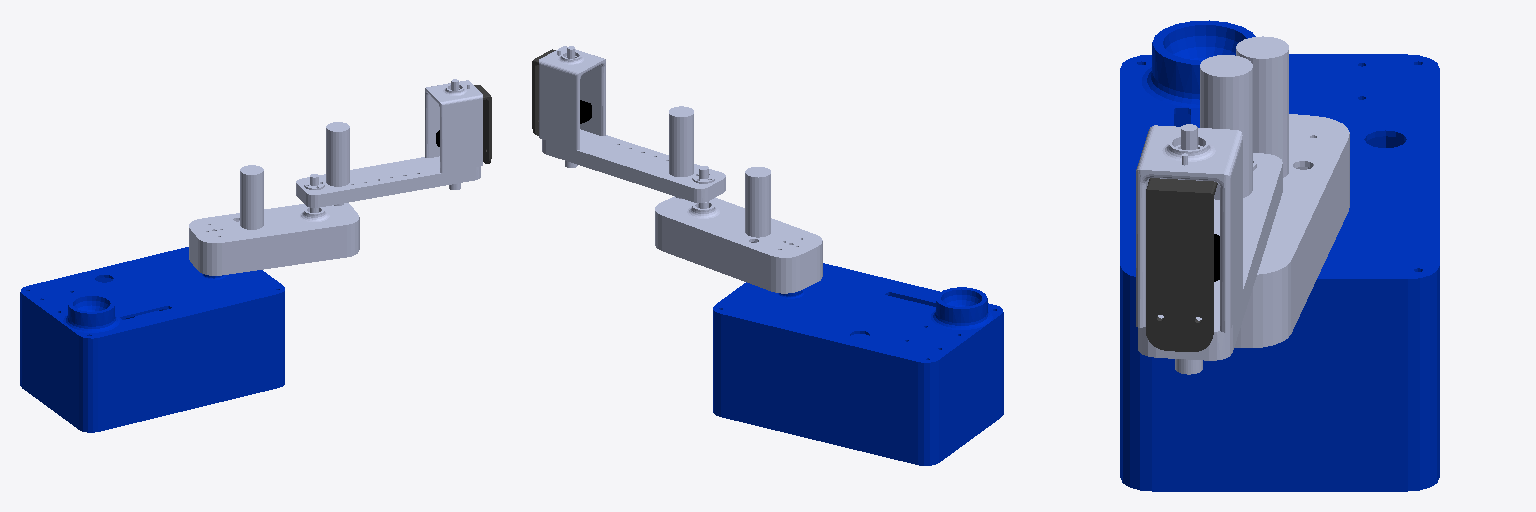
The robot description file, URDF, robot "Robot_Scara_F":
<?xml version="1.0" encoding="utf-8"?>
<robot name="Robot_Scara_F">

  <link name="world"/>
  <joint name="fixed_to_world" type="fixed">
    <parent link="world"/>
    <child link="base_link"/>
    <origin xyz="0 0 0.1" rpy="0 0 0"/>
  </joint> 

  <link name="base_link">
    <inertial>
      <origin xyz="-0.0074768 -0.0042443 -0.05846" rpy="0 0 0" />
      <mass value="0.75467" />
      <inertia ixx="0.0026112" ixy="-6.6098E-05" ixz="4.7424E-06" iyy="0.0056532" iyz="6.4561E-06" izz="0.0069253" />
    </inertial>
    <visual>
      <origin xyz="0 0 0" rpy="0 0 0" />
      <geometry>
        <mesh filename="package://modelo_robot/meshes/base_link.STL" />
      </geometry>
      <material name="">
        <color rgba="0.0078431 0.23922 0.82353 1" />
      </material>
    </visual>
    <collision>
      <origin xyz="0 0 0" rpy="0 0 0" />
      <geometry>
        <mesh filename="package://modelo_robot/meshes/base_link.STL" />
      </geometry>
    </collision>
  </link>

  <link name="Link_1">
    <inertial>
      <origin xyz="0.050301 2.5584E-05 -0.039711" rpy="0 0 0" />
      <mass value="0.16499" />
      <inertia ixx="9.2698E-05" ixy="1.5054E-07" ixz="1.3155E-06" iyy="0.00041626" iyz="5.1721E-08" izz="0.00045058" />
    </inertial>
    <visual>
      <origin xyz="0 0 0" rpy="0 0 0" />
      <geometry>
        <mesh filename="package://modelo_robot/meshes/Link_1.STL" />
      </geometry>
      <material name="">
        <color rgba="0.79216 0.81961 0.93333 1" />
      </material>
    </visual>
    <collision>
      <origin xyz="0 0 0" rpy="0 0 0" />
      <geometry>
        <mesh filename="package://modelo_robot/meshes/Link_1.STL" />
      </geometry>
    </collision>
  </link>

  <joint name="Join_1" type="revolute">
    <origin xyz="0.067133 -0.0031595 -0.0024841" rpy="-3.1416 0 -0.19479" />
    <parent link="base_link" />
    <child link="Link_1" />
    <axis xyz="0 0 -1" />
    <limit lower="-1.5708" upper="1.5708" effort="100" velocity="100" />
    <dynamics damping="0.1" friction="0.1" />
  </joint>

  <link name="Link_2">
    <inertial>
      <origin xyz="0.083343 -3.3384E-05 -0.035418" rpy="0 0 0" />
      <mass value="0.22047" />
      <inertia ixx="9.4697E-05" ixy="-7.0394E-08" ixz="-1.0939E-07" iyy="0.000397" iyz="-6.3842E-09" izz="0.00038542" />
    </inertial>
    <visual>
      <origin xyz="0 0 0" rpy="0 0 0" />
      <geometry>
        <mesh filename="package://modelo_robot/meshes/Link_2.STL" />
      </geometry>
      <material name="">
        <color rgba="0.79216 0.81961 0.93333 1" />
      </material>
    </visual>
    <collision>
      <origin xyz="0 0 0" rpy="0 0 0" />
      <geometry>
        <mesh filename="package://modelo_robot/meshes/Link_2.STL" />
      </geometry>
    </collision>
  </link>

  <joint name="Joint_2" type="revolute">
    <origin xyz="0.112 0 -0.058984" rpy="0 0 -0.063707" />
    <parent link="Link_1" />
    <child link="Link_2" />
    <axis xyz="0 0 -1" />
    <limit lower="-1.5708" upper="1.5708" effort="100" velocity="100" />
    <dynamics damping="0.1" friction="0.1" />
  </joint>

  <link name="Link_3">
    <inertial>
      <origin xyz="0.023683 -1.0089E-14 -0.014869" rpy="0 0 0" />
      <mass value="0.013186" />
      <inertia ixx="9.436E-06" ixy="1.1858E-20" ixz="-2.1563E-06" iyy="1.0192E-05" iyz="3.5702E-20" izz="2.8511E-06" />
    </inertial>
    <visual>
      <origin xyz="0 0 0" rpy="0 0 0" />
      <geometry>
        <mesh filename="package://modelo_robot/meshes/Link_3.STL" />
      </geometry>
      <material name="">
        <color rgba="0.29804 0.29804 0.29804 1" />
      </material>
    </visual>
    <collision>
      <origin xyz="0 0 0" rpy="0 0 0" />
      <geometry>
        <mesh filename="package://modelo_robot/meshes/Link_3.STL" />
      </geometry>
    </collision>
  </link>

  <joint name="Joint_3" type="prismatic">
    <origin xyz="0.161 0 -0.067" rpy="0 0 0" />
    <parent link="Link_2" />
    <child link="Link_3" />
    <axis xyz="0 0 -1" />
    <limit lower="-0.0705" upper="0" effort="100" velocity="100" />
    <dynamics damping="0.1" friction="0.1" />
  </joint>

  <ros2_control name="GazeboSimSystem" type="system">
    <hardware>
      <plugin>gz_ros2_control/GazeboSimSystem</plugin>
    </hardware>
    
    <joint name="Join_1">
      <command_interface name="position"/>
      <state_interface name="position"/>
      <state_interface name="velocity"/>
    </joint>
    
    <joint name="Joint_2">
      <command_interface name="position"/>
      <state_interface name="position"/>
      <state_interface name="velocity"/>
    </joint>
    
    <joint name="Joint_3">
      <command_interface name="position"/>
      <state_interface name="position"/>
      <state_interface name="velocity"/>
    </joint>
  </ros2_control>

  <gazebo>
    <plugin filename="gz_ros2_control-system" name="gz_ros2_control::GazeboSimROS2ControlPlugin">
      <parameters>/home/anonimus/Desktop/Robotica/ros2_ws/src/modelo_robot/config/scara_controllers.yaml</parameters>
    </plugin>
  </gazebo>

  <gazebo reference="base_link">
    <material>Gazebo/Blue</material>
  </gazebo>

  <gazebo reference="Link_1">
    <material>Gazebo/Grey</material>
  </gazebo>

  <gazebo reference="Link_2">
    <material>Gazebo/Grey</material>
  </gazebo>

  <gazebo reference="Link_3">
    <material>Gazebo/DarkGrey</material>
  </gazebo>
  <!-- VENTOSA -->
  <link name="ventosa_link">
    <visual>
      <geometry><cylinder radius="0.02" length="0.01"/></geometry>
      <material name="black">
        <color rgba="0 0 0 1"/>
      </material>
    </visual>
  </link>

  <joint name="ventosa_joint" type="fixed">
    <parent link="Link_3"/>
    <child link="ventosa_link"/>
    <origin xyz="0 0 0.01" rpy="0 0 0"/>
  </joint>

  <gazebo reference="ventosa_link">
    <plugin filename="gz-sim-detachable-joint-system"
            name="gz::sim::systems::DetachableJoint">
      <parent_link>ventosa_link</parent_link>
      <child_model>pelota_roja_1</child_model>
      <child_link>link</child_link>
      <topic>/gripper/switch</topic>
      <detach_on_contacts>false</detach_on_contacts>
    </plugin>
  </gazebo>
</robot>

--- What the picture shows (computed from the rendered views, not written in the file) ---
3 views of the same robot in one strip: view 1: azimuth 30°, elevation 25°; view 2: azimuth 150°, elevation 25°; view 3: azimuth 270°, elevation 25° (orthographic).
Model Robot_Scara_F with 6 links and 5 joints (2 revolute, 1 prismatic, 2 fixed), rooted at world, posed all joints at 0.
Visible links, largest first — view 1: base_link, Link_2, Link_1, Link_3; view 2: base_link, Link_2, Link_1, Link_3; view 3: base_link, Link_2, Link_1, Link_3.
Link boxes in pixels (box(x1,y1,x2,y2)): base_link: box(20, 247, 284, 432); Link_2: box(296, 79, 482, 212); Link_1: box(189, 165, 359, 275); Link_3: box(474, 85, 491, 163); base_link: box(713, 263, 1003, 465); Link_2: box(539, 46, 725, 208); Link_1: box(655, 167, 822, 293); Link_3: box(532, 49, 555, 135); base_link: box(1120, 20, 1439, 491); Link_2: box(1136, 55, 1282, 374); Link_1: box(1234, 36, 1349, 347); Link_3: box(1146, 178, 1217, 351).
Size in the robot's own frame: 0.5063 by 0.15 by 0.291 metres.
Meshes: 4 distinct files referenced, 4 mesh visuals loaded (4 binary STL).
